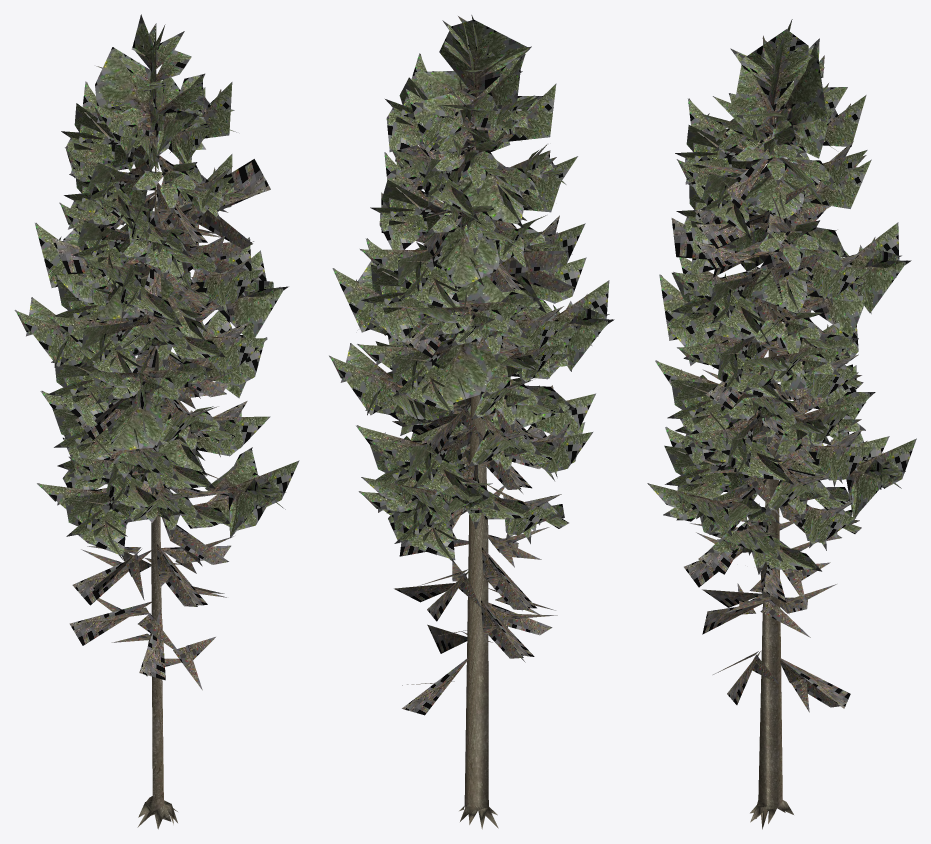
Rendered from tundra-fir-a-mid.glb.
3 views of the same model, side by side, from view 1: azimuth 30°, elevation 25°; view 2: azimuth 150°, elevation 25°; view 3: azimuth 270°, elevation 25° (orthographic). The views are drawn at different scales.
Visible parts, largest first — view 1: douglas_fir_a_LOD0; view 2: douglas_fir_a_LOD0; view 3: douglas_fir_a_LOD0.
Boxes of the visible parts, <box> form: douglas_fir_a_LOD0: <box>14,14,299,829</box>; douglas_fir_a_LOD0: <box>329,15,614,829</box>; douglas_fir_a_LOD0: <box>647,19,916,829</box>.
Size of the model in its own units: 12.76 by 41.54 by 12.77.
1 material, 1 textured.
